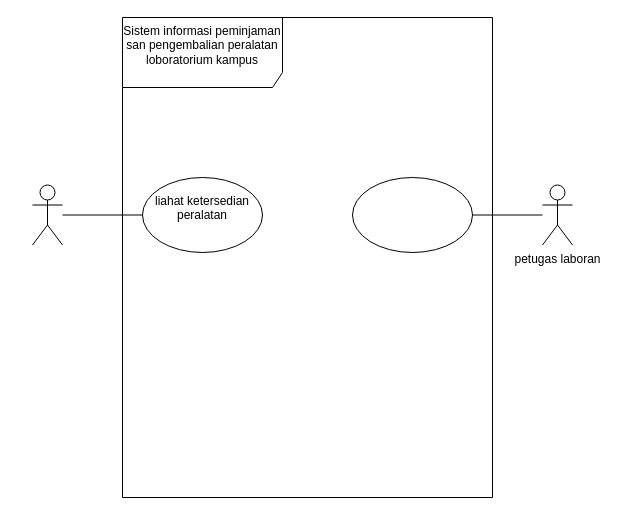
This 618x515 diagram has some shape labels left out. The centre of each missing label's shape, as x and y in pixels:
kelola data peralatan: point (412, 214)
mahasiswa: point (47, 214)
